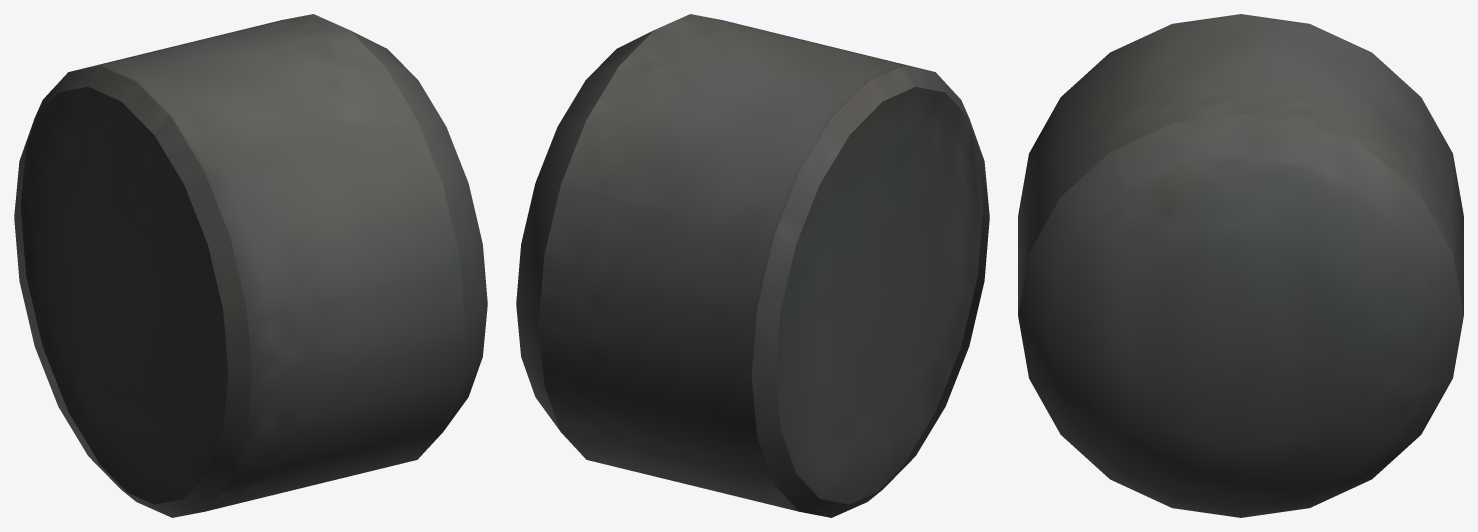
File: armTip-v1.glb
3 renders of one model, left to right at view 1: azimuth 30°, elevation 25°; view 2: azimuth 150°, elevation 25°; view 3: azimuth 270°, elevation 25°, orthographic. The views are drawn at different scales.
Parts seen in each view (by area): view 1: armTip-v1; view 2: armTip-v1; view 3: armTip-v1.
Part boxes in pixels (box(x1,y1,x2,y2)): armTip-v1: box(14, 14, 487, 517); armTip-v1: box(516, 14, 989, 517); armTip-v1: box(1018, 14, 1463, 517).
Bounding box in the file's own units: 0.1 × 0.132 × 0.132.
Materials: 1 (1 with a texture image).
